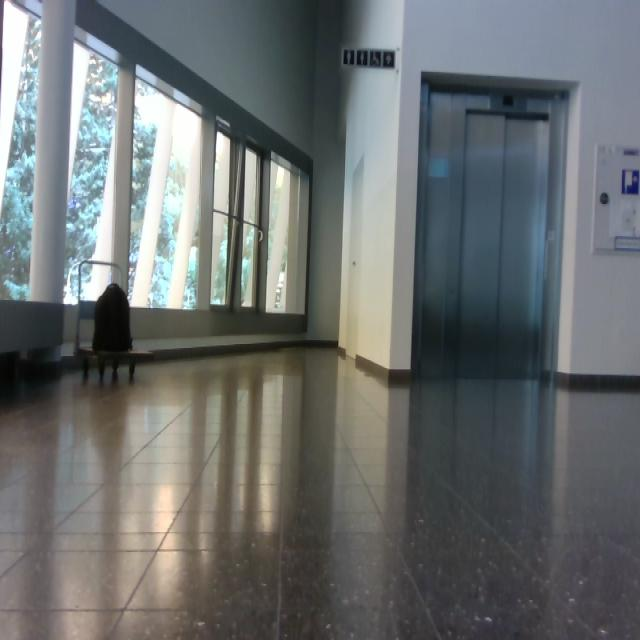door: (413, 79, 569, 383)
light bulb: (591, 142, 640, 256), (246, 226, 263, 245)
staircase: (74, 258, 154, 385)
tiled floor: (2, 344, 639, 638)
window: (1, 1, 314, 334), (128, 65, 203, 310)
